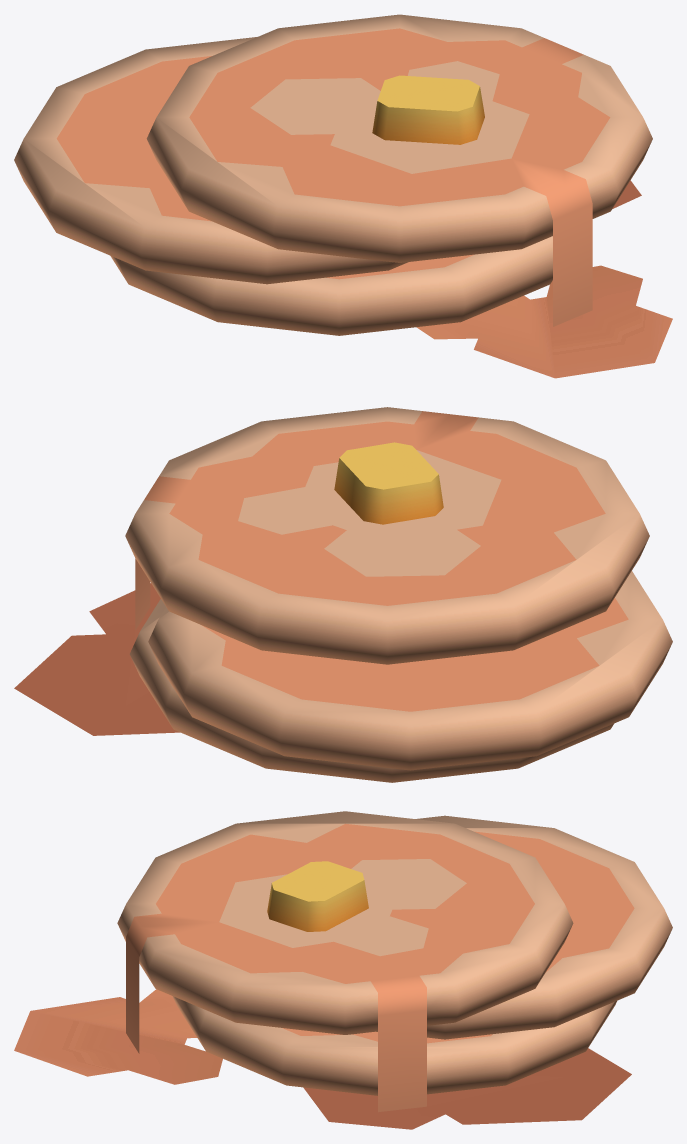
Rendered from pancakes.glb.
3 views of the same model, one above another, from view 1: azimuth 30°, elevation 25°; view 2: azimuth 150°, elevation 25°; view 3: azimuth 270°, elevation 25° (orthographic). The views are drawn at different scales.
Parts seen in each view (by area): view 1: pancakes; view 2: pancakes; view 3: pancakes.
Part boxes in pixels (bbox=[...]): pancakes: bbox=[14, 14, 672, 378]; pancakes: bbox=[14, 407, 672, 782]; pancakes: bbox=[14, 811, 672, 1129].
Bounding box in the file's own units: 0.4355 × 0.1216 × 0.5039.
1 material, 1 textured.
